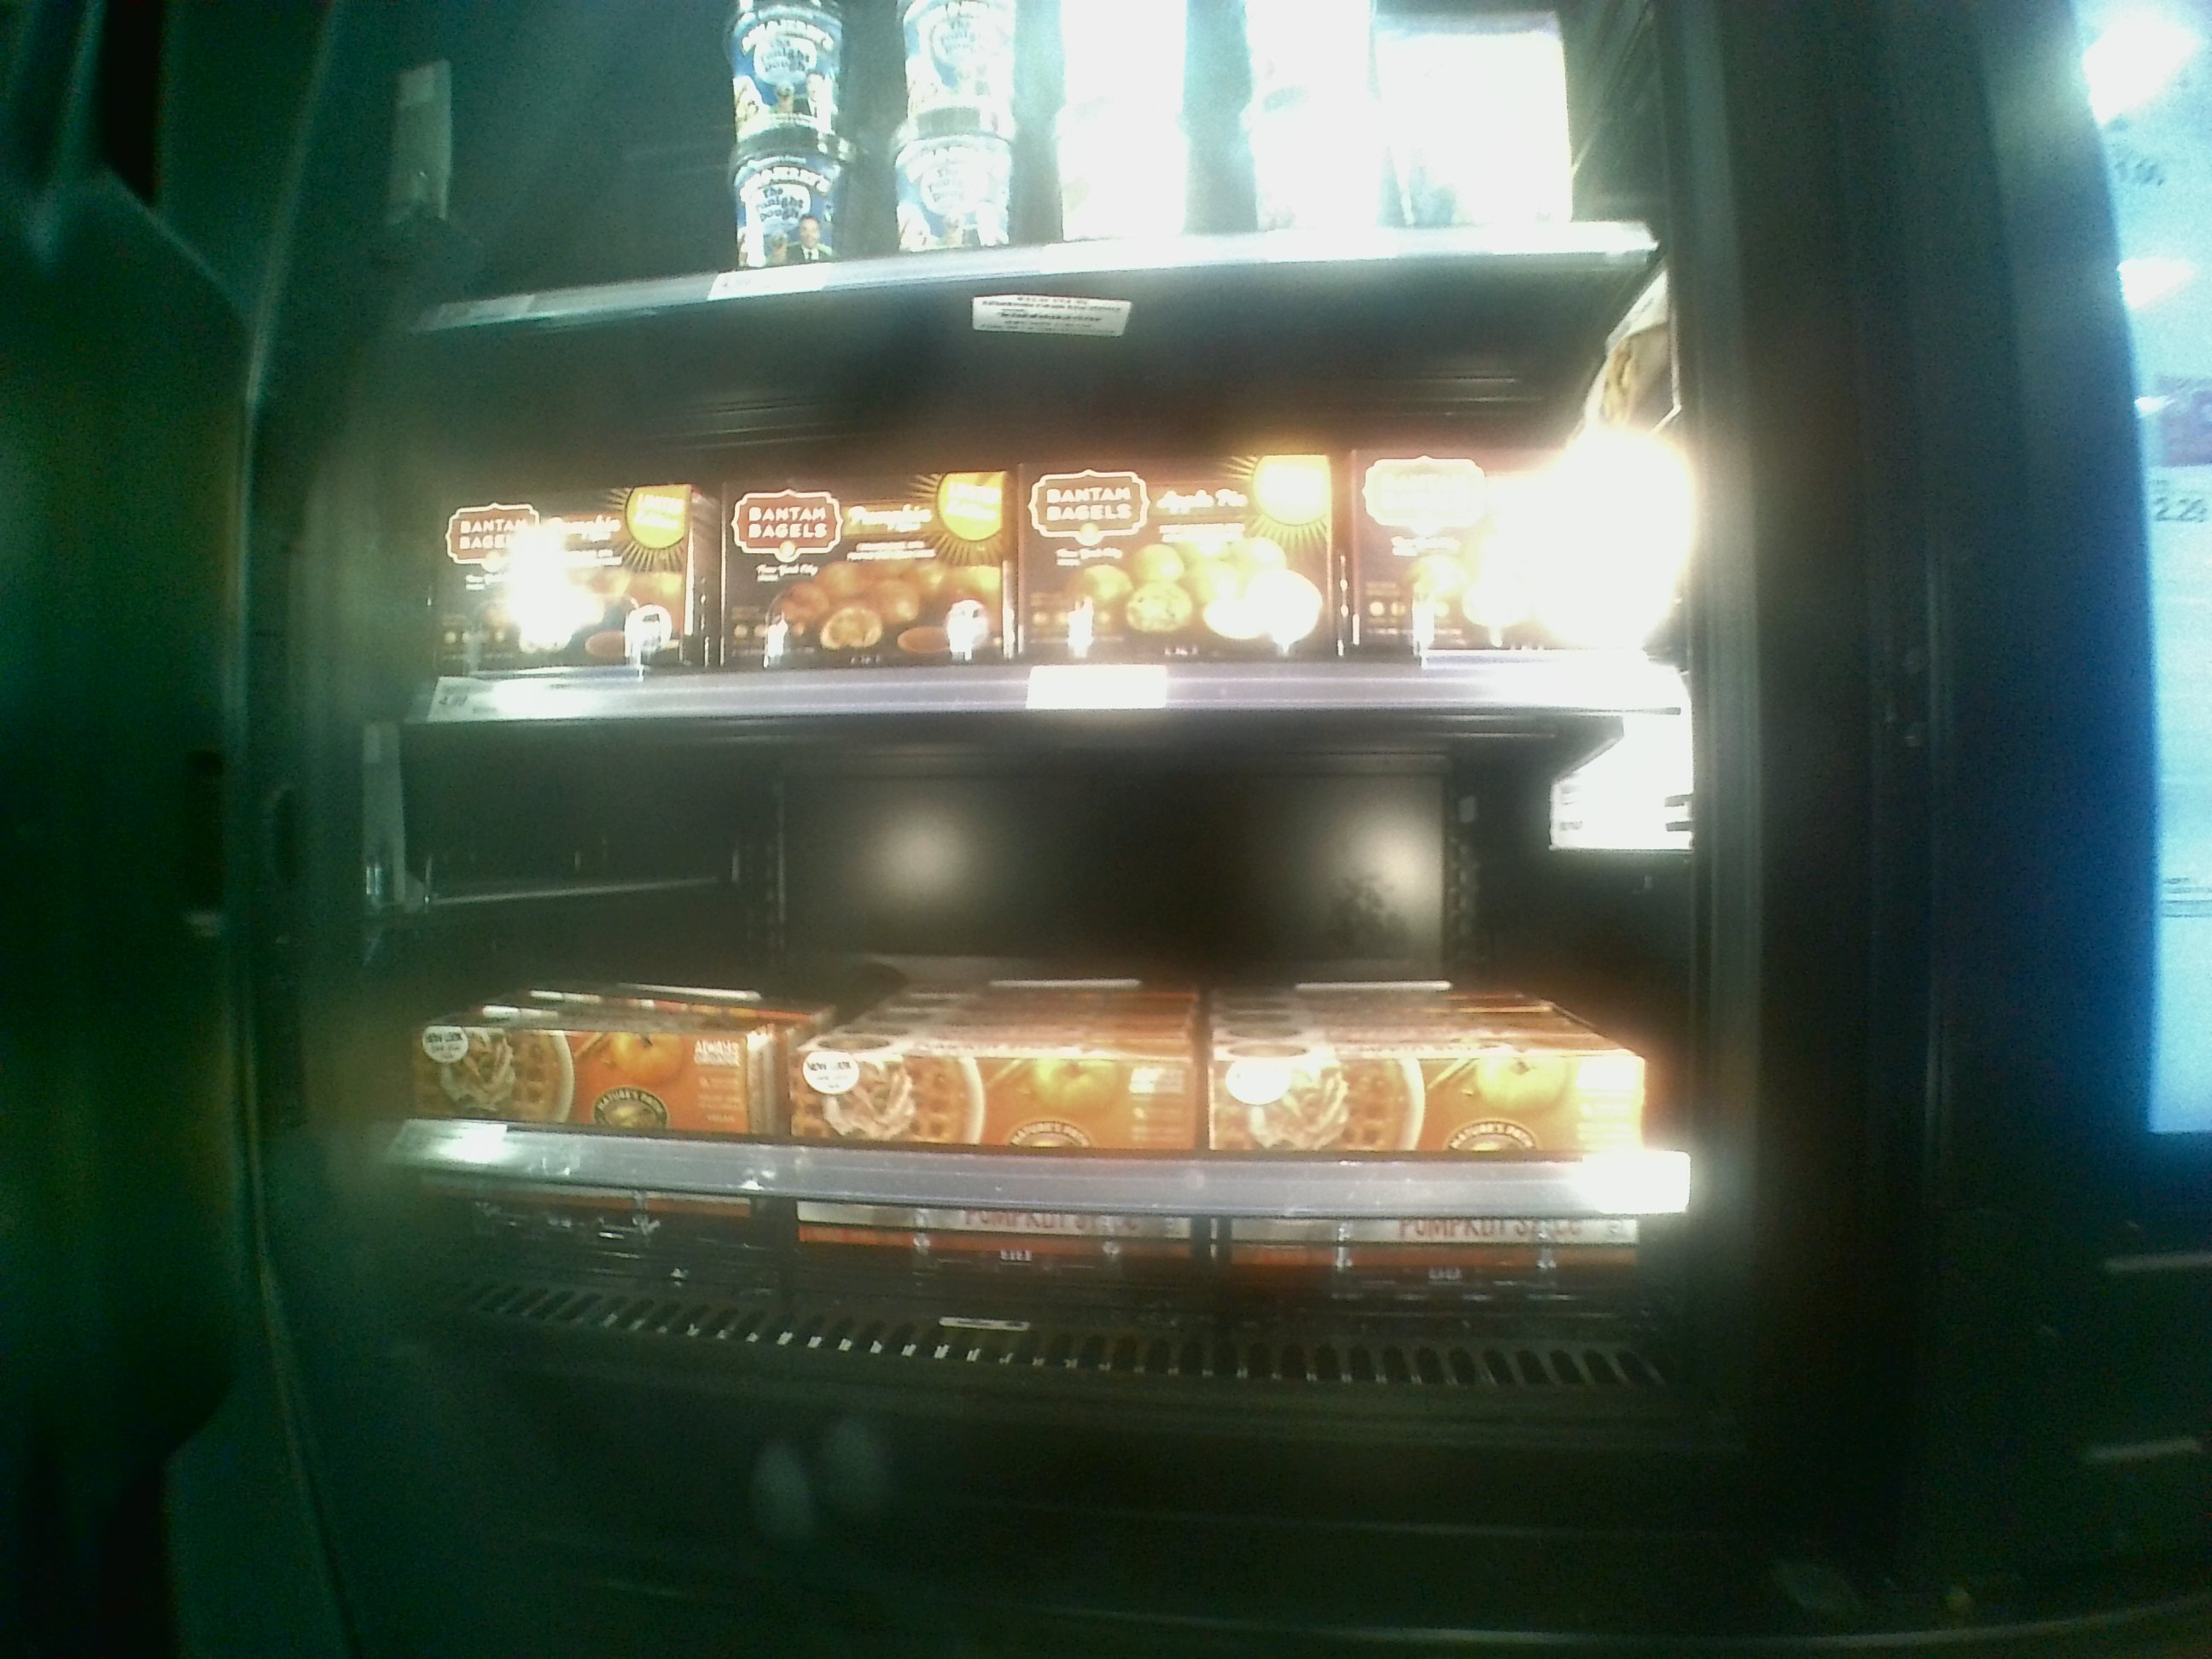shelf: (376, 708, 1737, 1420), (392, 303, 1724, 721)
